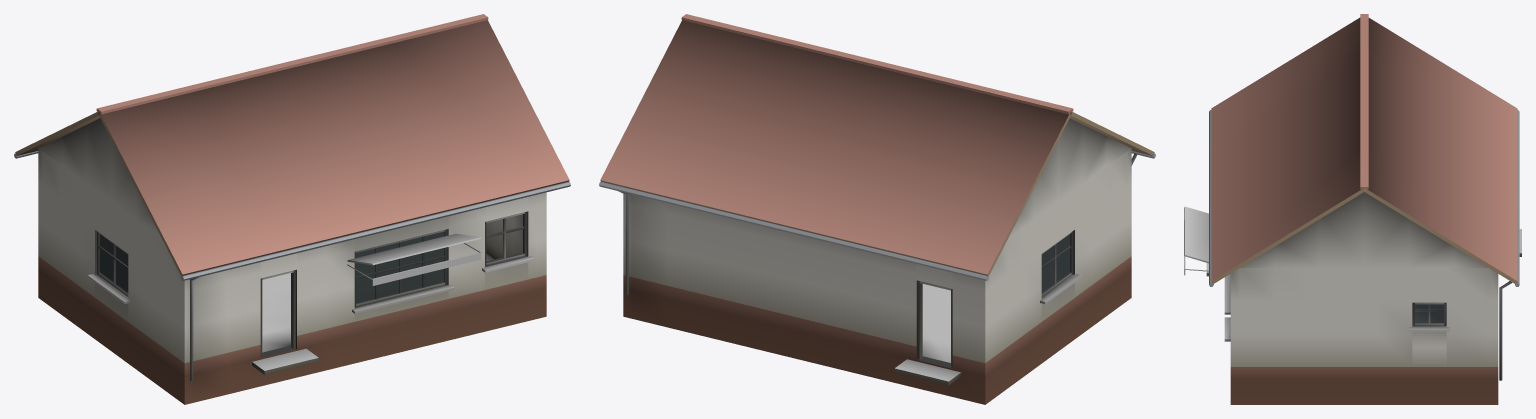
File: cafe.glb
3 views of the same model, side by side, from view 1: azimuth 30°, elevation 25°; view 2: azimuth 150°, elevation 25°; view 3: azimuth 270°, elevation 25° (orthographic). The views are drawn at different scales.
Parts seen in each view (by area): view 1: cafe; view 2: cafe; view 3: cafe.
Boxes of the visible parts, x1,y1,x2,y2 form: cafe: [14, 14, 570, 404]; cafe: [599, 14, 1155, 404]; cafe: [1184, 14, 1521, 404].
Bounding box in the file's own units: 10.7 × 6.46 × 8.84.
